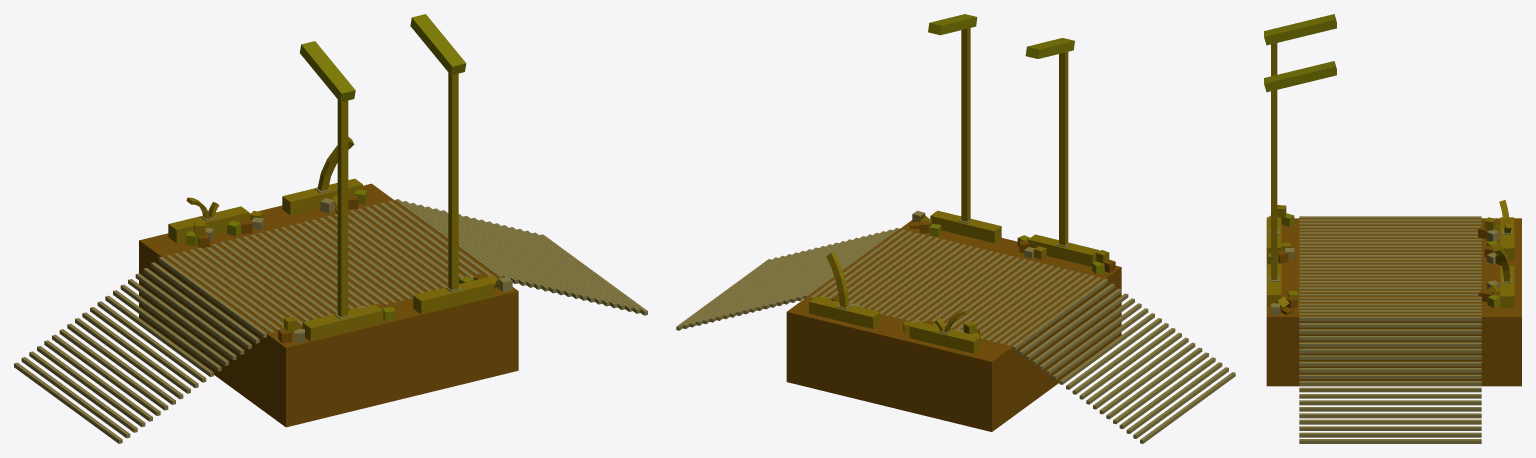
File: plnv1.fbx
3 views of the same model, side by side, from view 1: azimuth 30°, elevation 25°; view 2: azimuth 150°, elevation 25°; view 3: azimuth 270°, elevation 25° (orthographic). The views are drawn at different scales.
Parts seen in each view (by area): view 1: plv1; view 2: plv1; view 3: plv1.
Part boxes in pixels (x1,y1,x2,y2): plv1: (14, 14, 647, 443); plv1: (676, 14, 1235, 443); plv1: (1264, 14, 1521, 443).
Bounding box in the file's own units: 1455 × 900 × 707.
